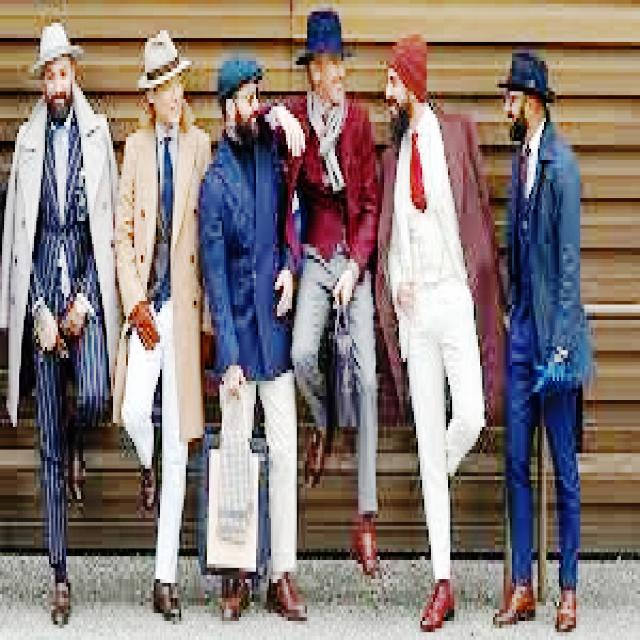TOPI: (491, 34, 561, 107), (130, 19, 192, 91), (20, 12, 86, 76), (290, 0, 359, 61), (380, 23, 431, 99), (211, 46, 265, 106)
